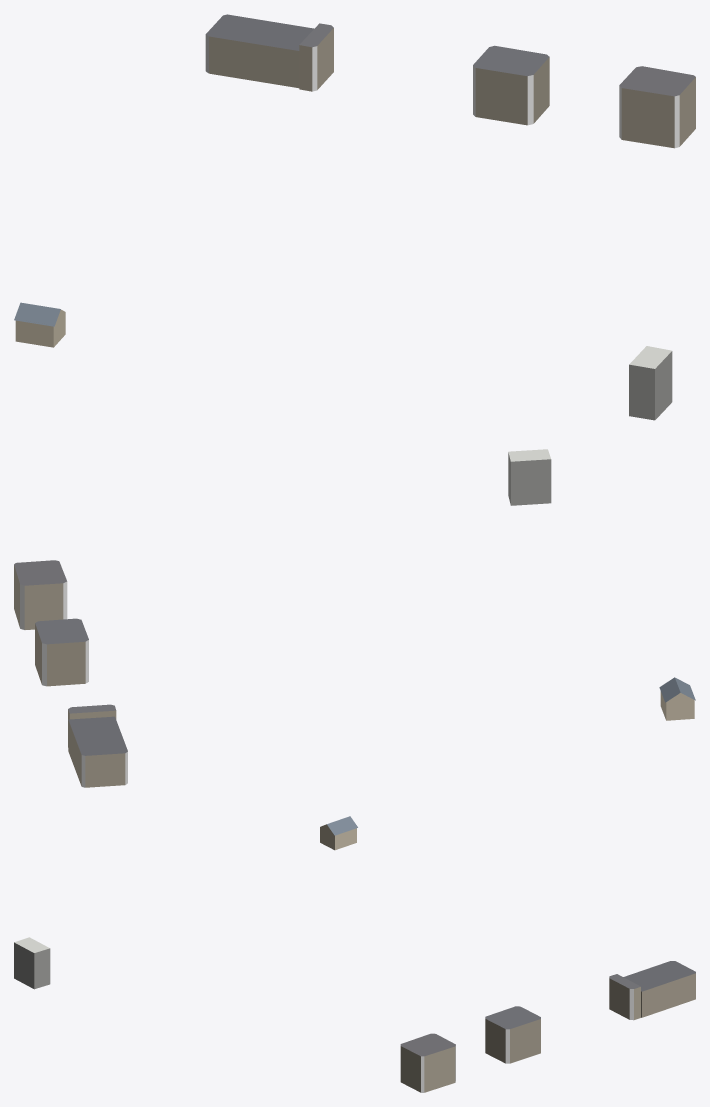
3 renders of one model, top to bottom at view 1: azimuth 30°, elevation 25°; view 2: azimuth 150°, elevation 25°; view 3: azimuth 270°, elevation 25°, orthographic. The views are drawn at different scales.
Parts seen in each view (by area): view 1: tuile; view 2: tuile; view 3: tuile.
Part boxes in pixels (x1,y1,x2,y2): tuile: (14, 14, 695, 420); tuile: (14, 449, 695, 787); tuile: (14, 816, 695, 1092).
Size of the model in its own units: 221 by 15.28 by 252.
